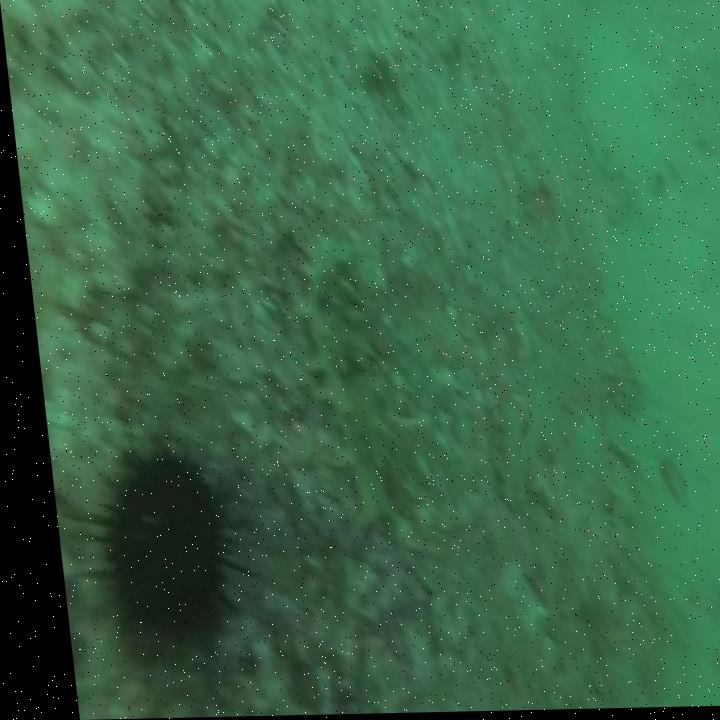echinus: (39, 428, 260, 672)
holothurian: (286, 230, 399, 536), (476, 390, 528, 524), (582, 312, 636, 422), (518, 505, 564, 625)
